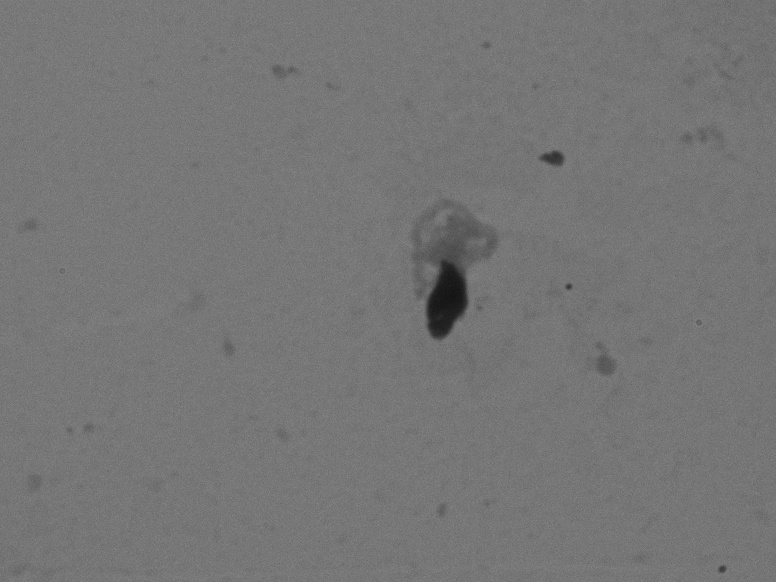Abnormal: (331, 149, 526, 376)
